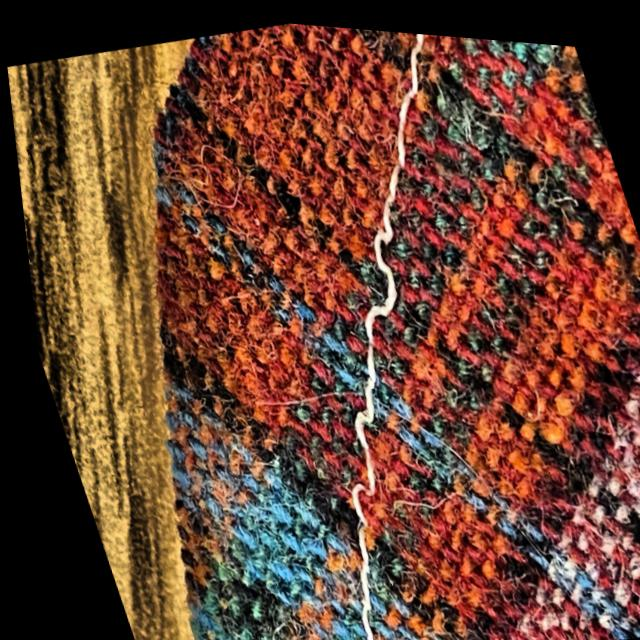Stitch: (321, 204, 423, 327), (309, 459, 392, 546), (321, 379, 384, 464)
